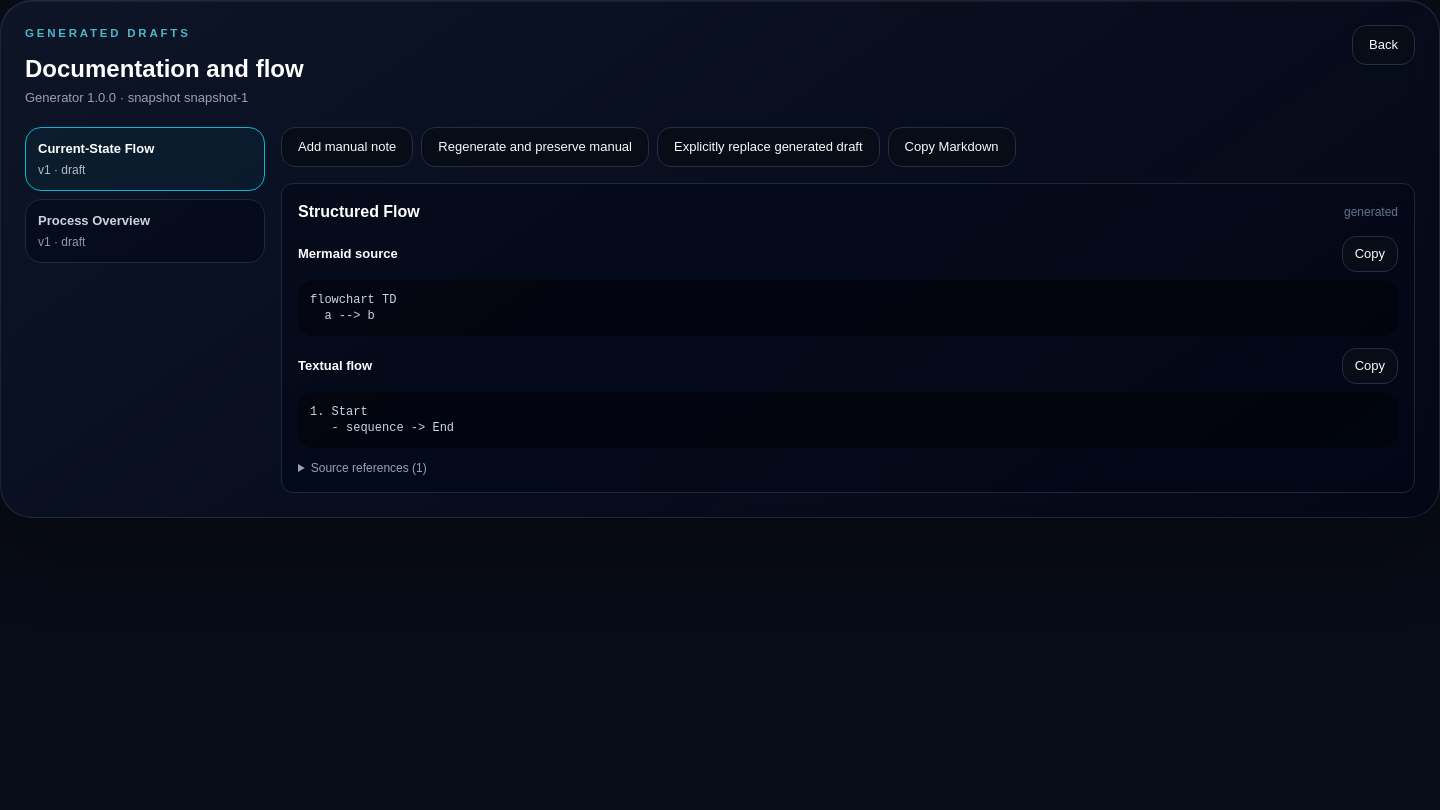
it: DocumentationWorkspace › copies Mermaid and switches artifacts
Step 1. Click the button "Copy" in the row of "Mermaid source" → (1370, 254), box [1342,236,1398,272]
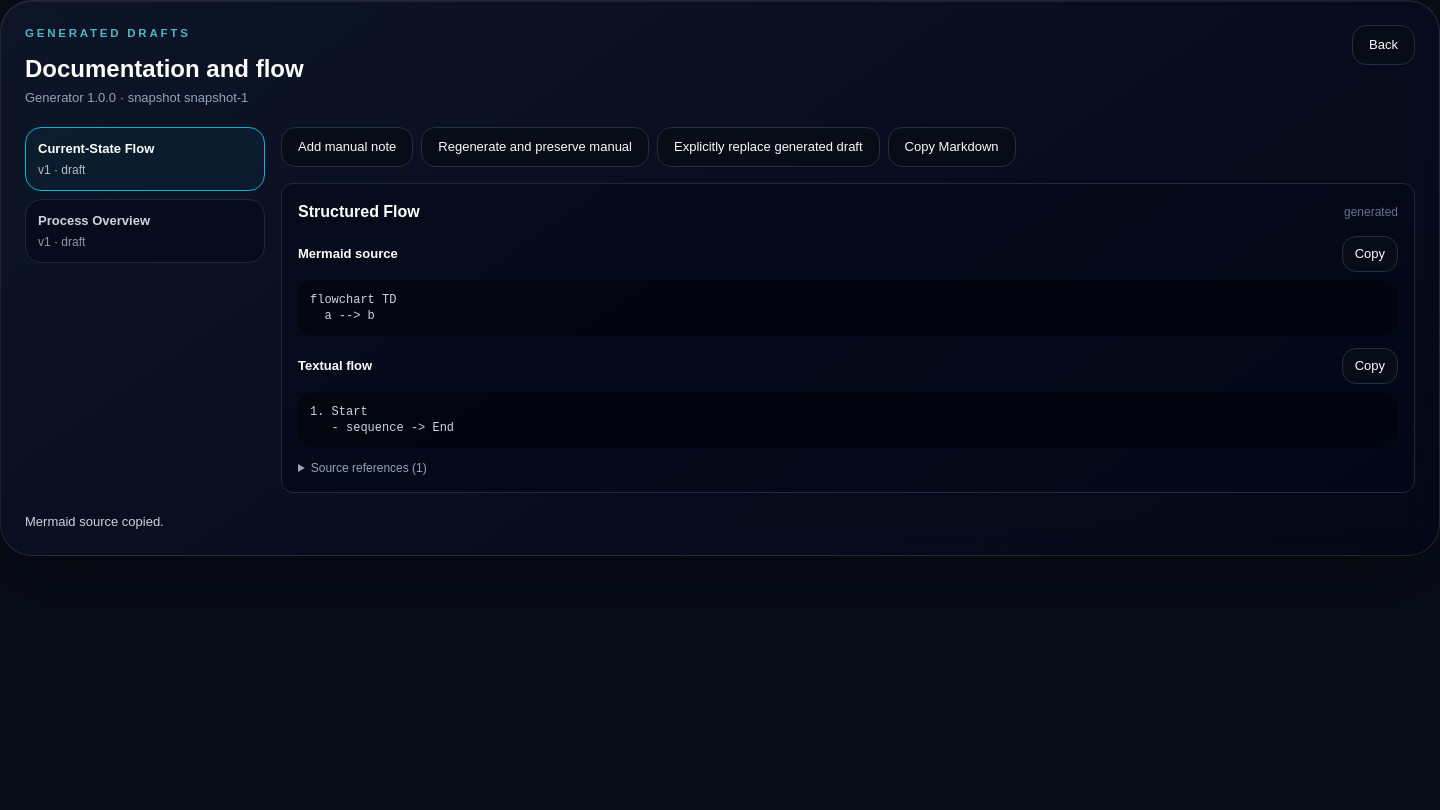
Step 2. Click the button "Process Overview v1 · draft" → (145, 231), box [25,199,265,263]
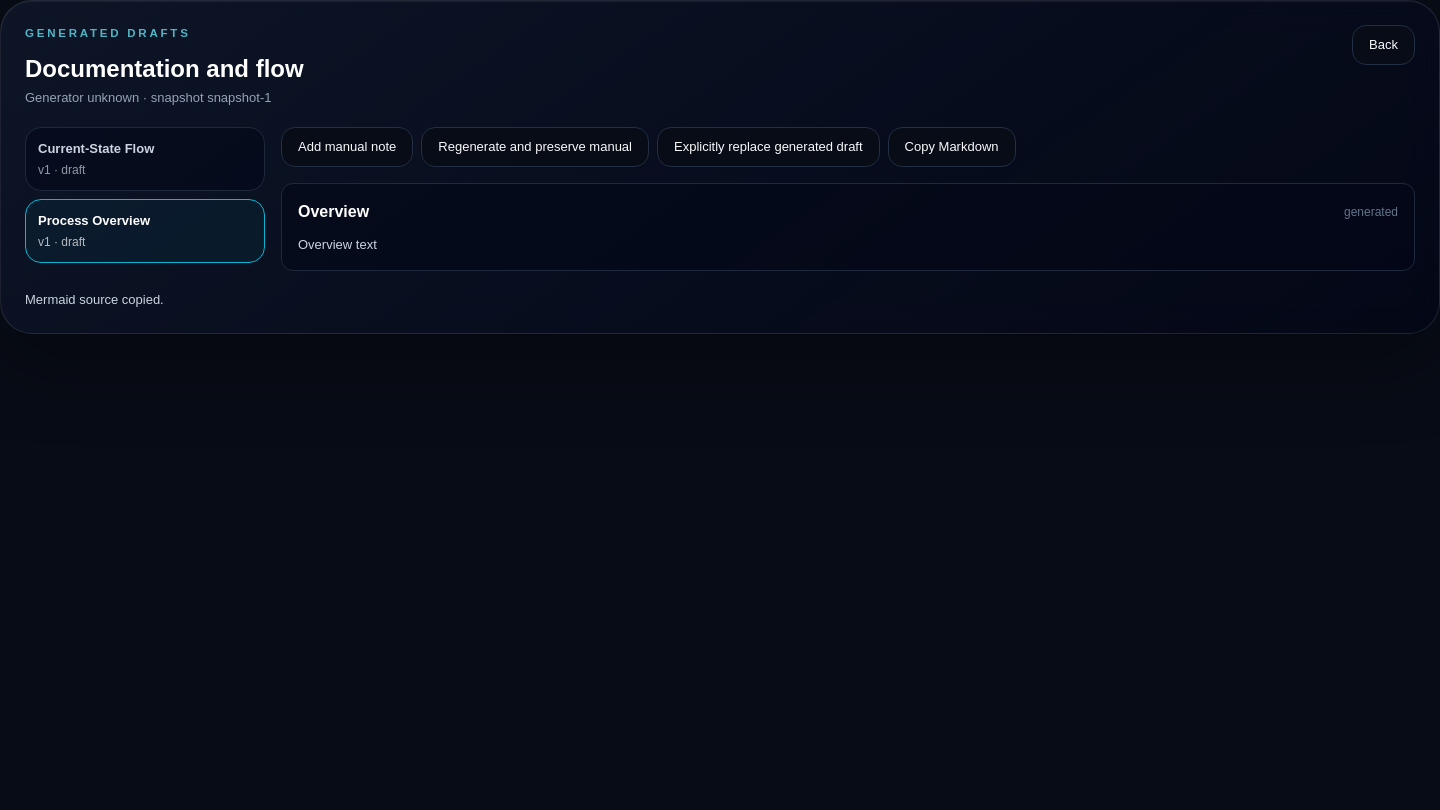
Expected: the text "Overview text" is shown, [298,237,377,252]
